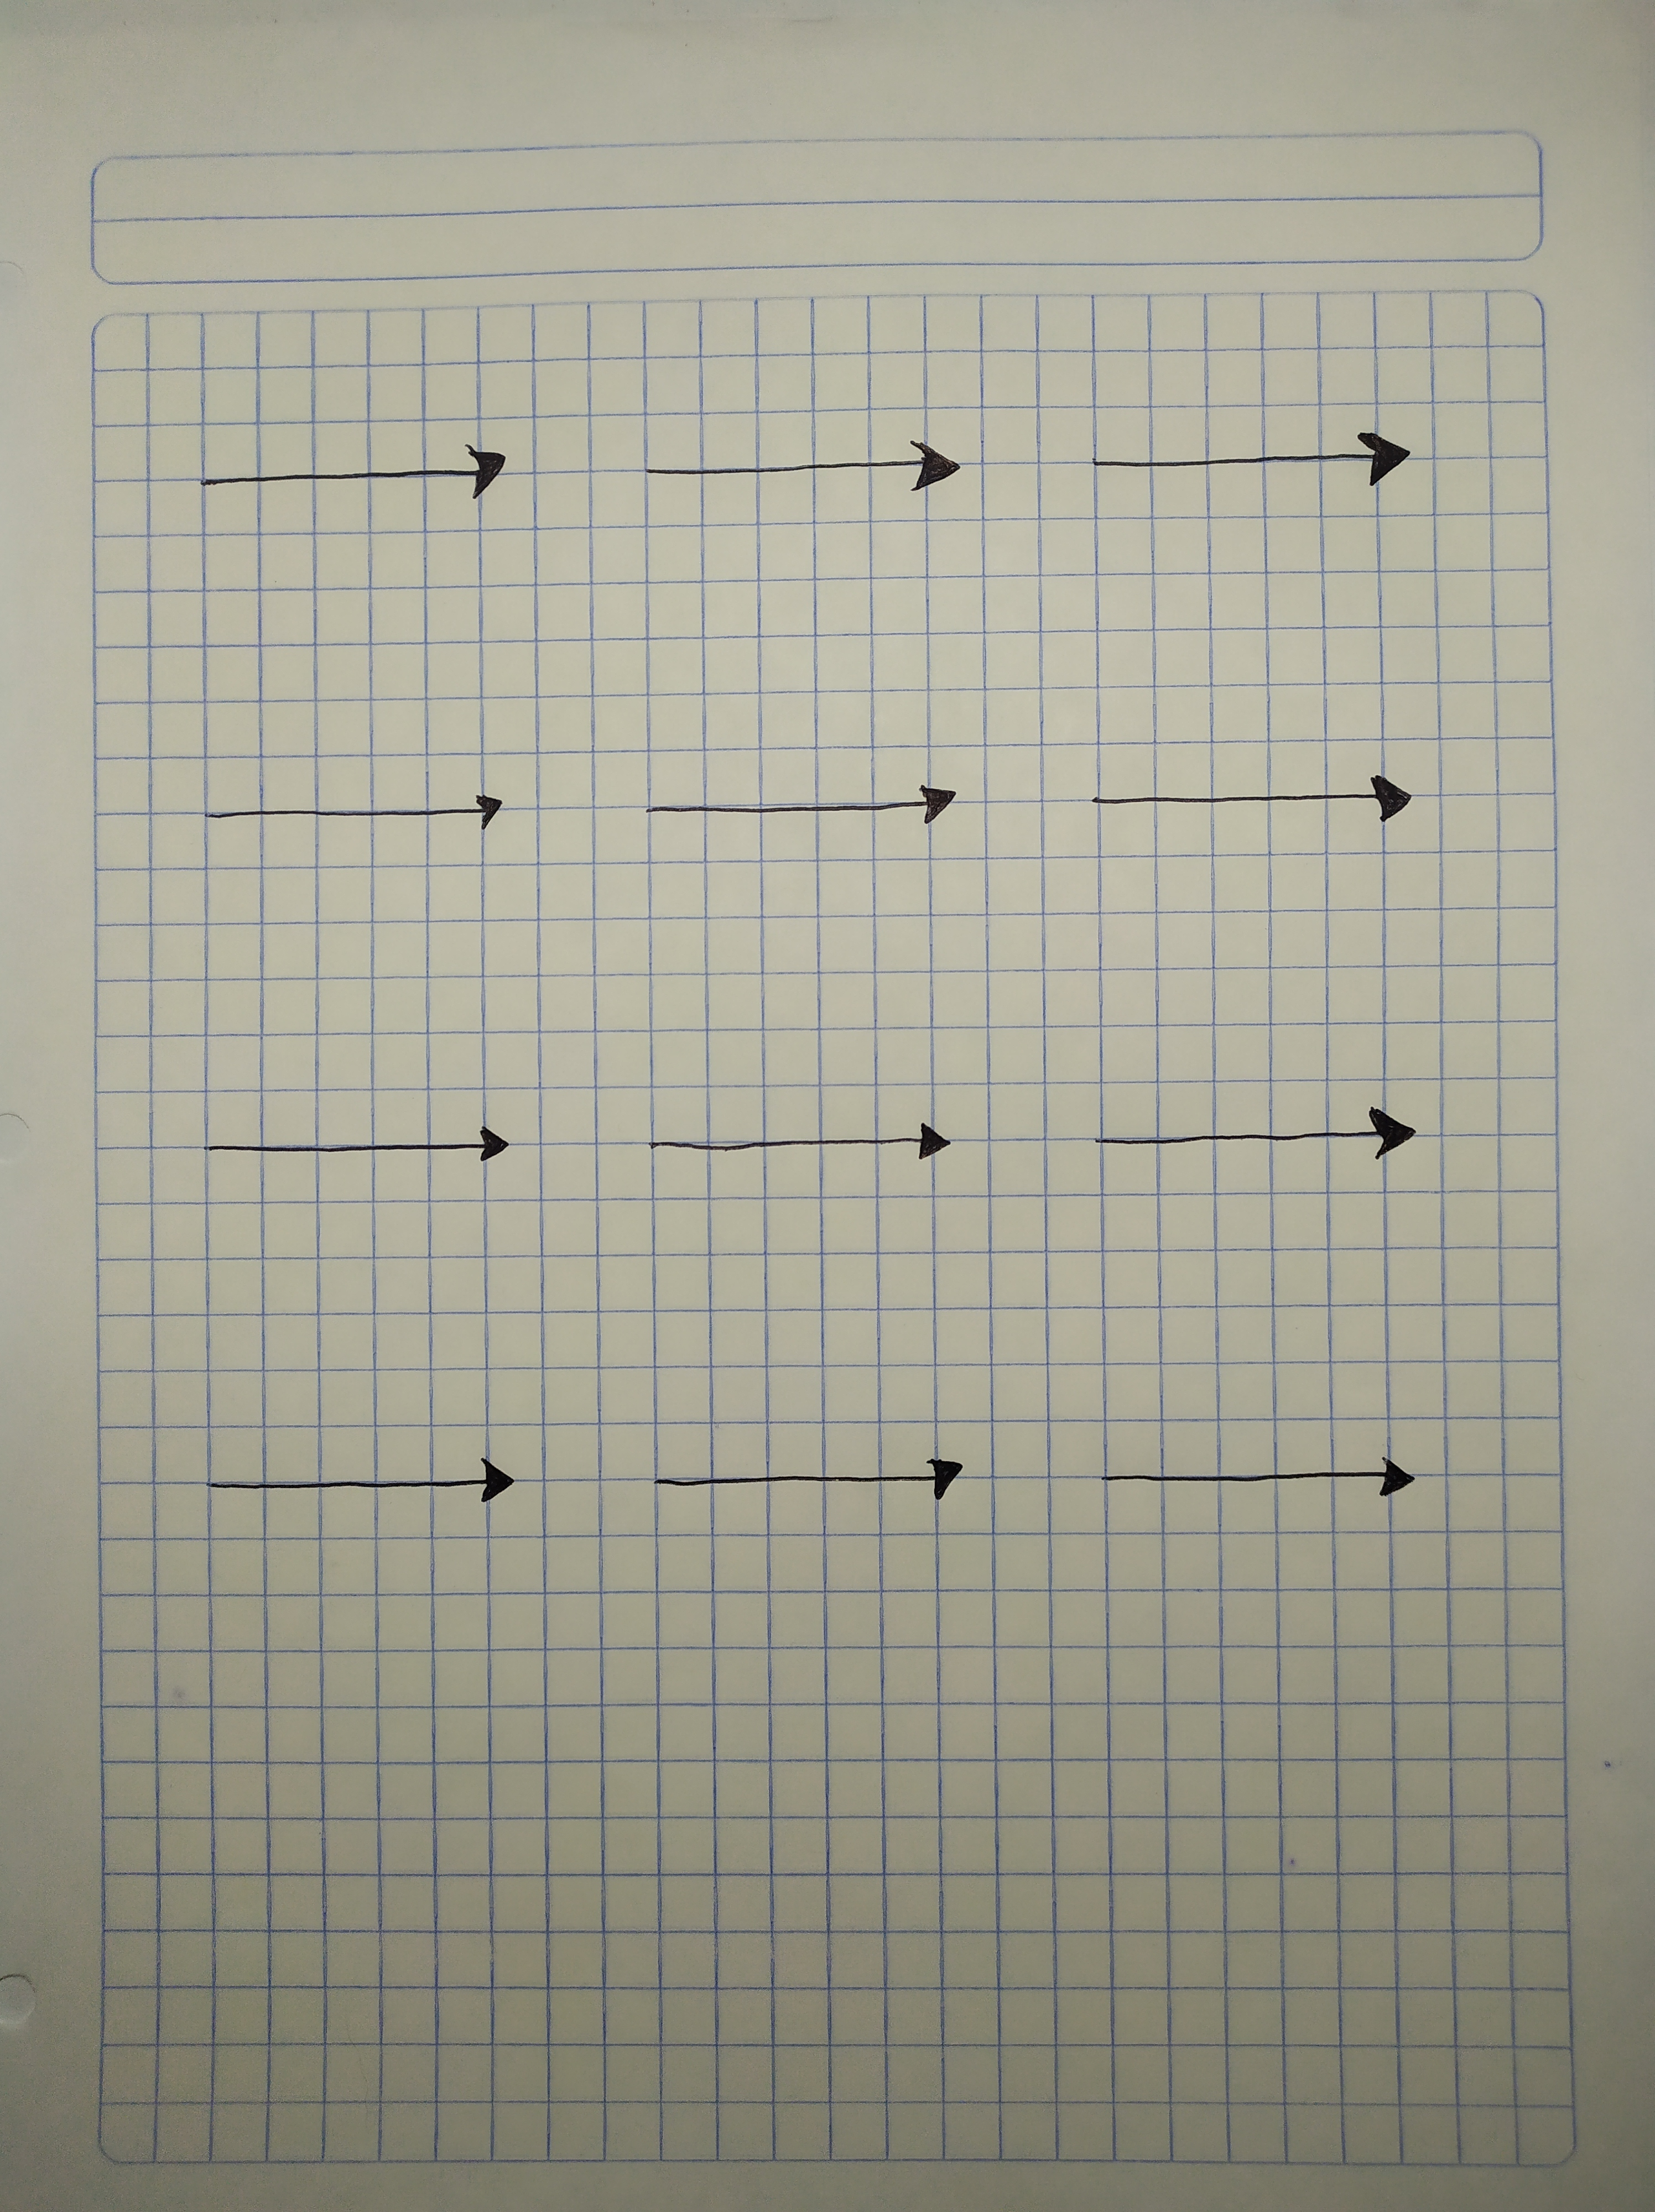arrow_line_right: (1064, 758, 1460, 869), (605, 752, 1010, 860), (188, 1430, 525, 1546), (172, 1102, 555, 1201), (1064, 1435, 1460, 1529), (628, 1430, 1001, 1529), (1064, 417, 1462, 507), (602, 419, 987, 507), (169, 424, 525, 518), (610, 1110, 961, 1192), (1064, 1096, 1455, 1168), (167, 763, 522, 836)
